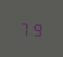nine: (31, 20, 42, 37)
seven: (19, 19, 30, 36)
